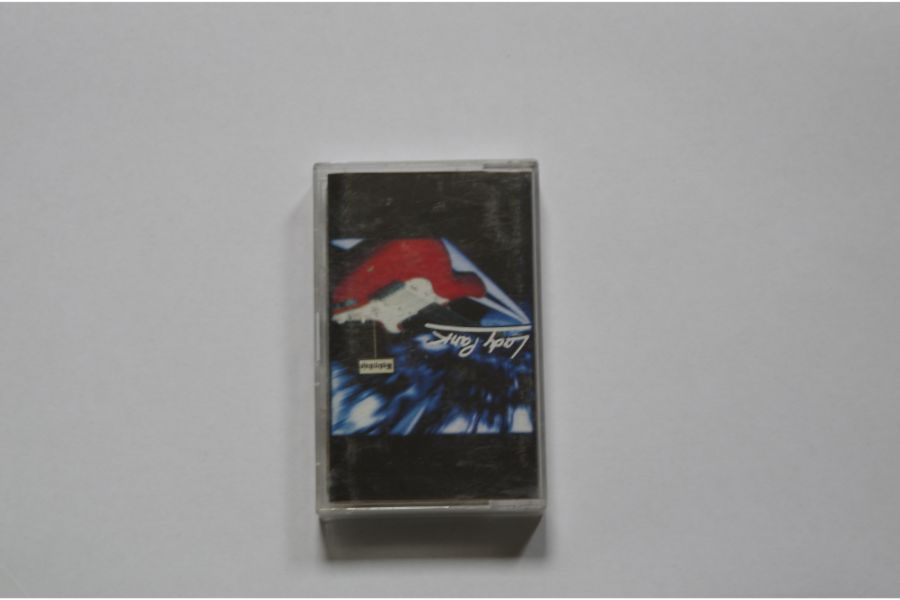album: (310, 156, 548, 525)
